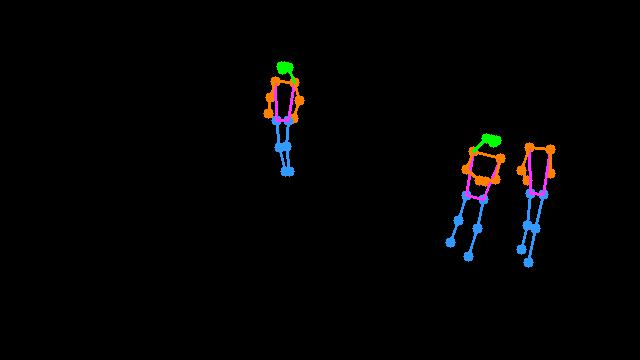normal: (433, 116, 564, 277)
